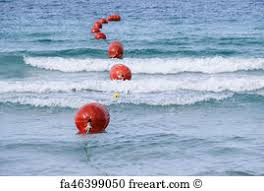buoy: (76, 102, 110, 134), (110, 63, 133, 81), (109, 42, 124, 58), (95, 33, 107, 40), (94, 21, 101, 28), (91, 27, 98, 32)
